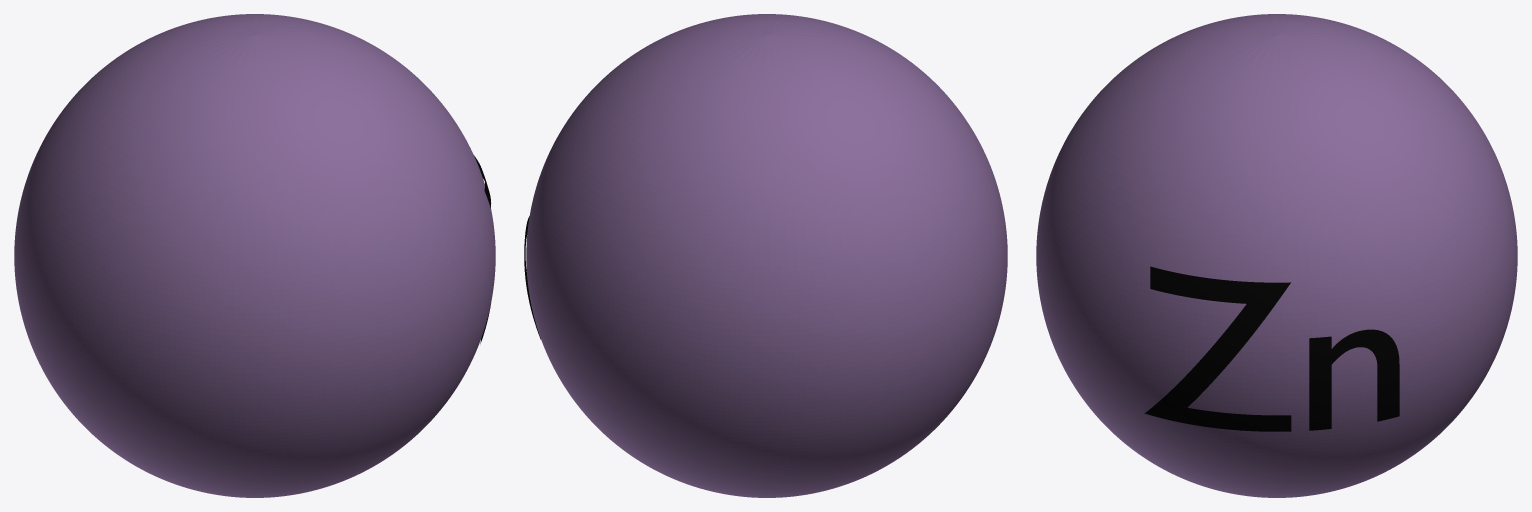
The model's file is Zinc (Zn).fbx.
The picture shows the model from 3 angles, left to right: view 1: azimuth 30°, elevation 25°; view 2: azimuth 150°, elevation 25°; view 3: azimuth 270°, elevation 25°; orthographic projection.
Parts seen in each view (by area): view 1: Sphere.005; view 2: Sphere.005; view 3: Sphere.005, Text.005.
Part boxes in pixels (left/top/right/bottom): Sphere.005: left=14, top=14, right=495, bottom=497; Sphere.005: left=526, top=14, right=1007, bottom=497; Sphere.005: left=1036, top=14, right=1517, bottom=497; Text.005: left=1144, top=266, right=1399, bottom=431.
Bounding box in the file's own units: 198 × 200 × 197.
